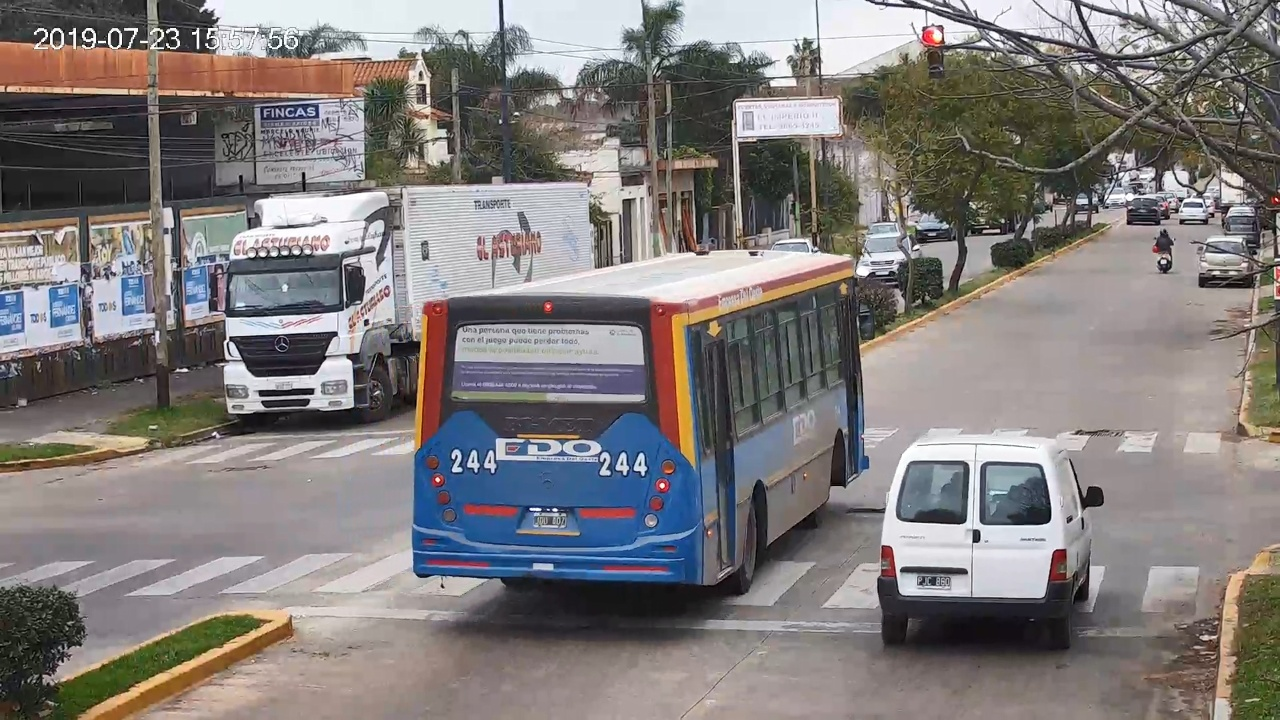bus: (414, 250, 871, 594)
car: (877, 437, 1104, 648)
traffic light: (923, 26, 945, 78)
